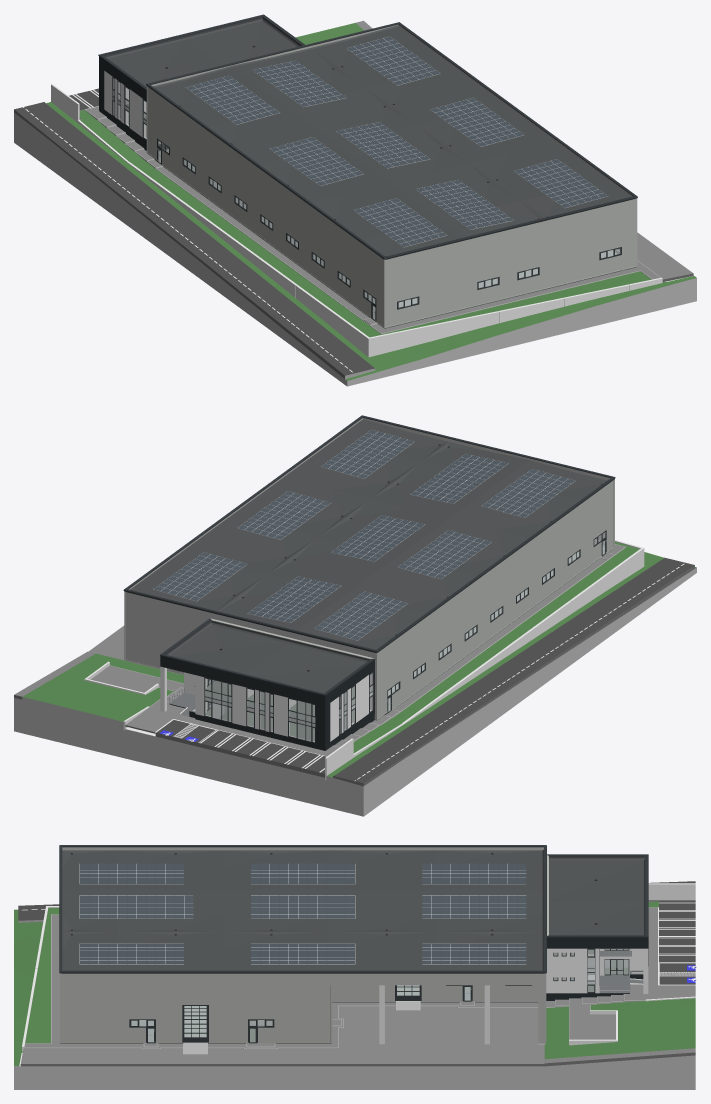
The model's file is Hala-productie-web.glb.
3 views of the same model, one above another, from view 1: azimuth 30°, elevation 25°; view 2: azimuth 150°, elevation 25°; view 3: azimuth 270°, elevation 25° (orthographic). The views are drawn at different scales.
Visible parts, largest first — view 1: RWO_Optimized_1deg; view 2: RWO_Optimized_1deg; view 3: RWO_Optimized_1deg.
Boxes of the visible parts, box(x1,y1,x2,y2) form: RWO_Optimized_1deg: box(14, 14, 696, 386); RWO_Optimized_1deg: box(14, 415, 696, 816); RWO_Optimized_1deg: box(14, 845, 696, 1089).
Size of the model in its own units: 50.11 by 13.36 by 82.84.
